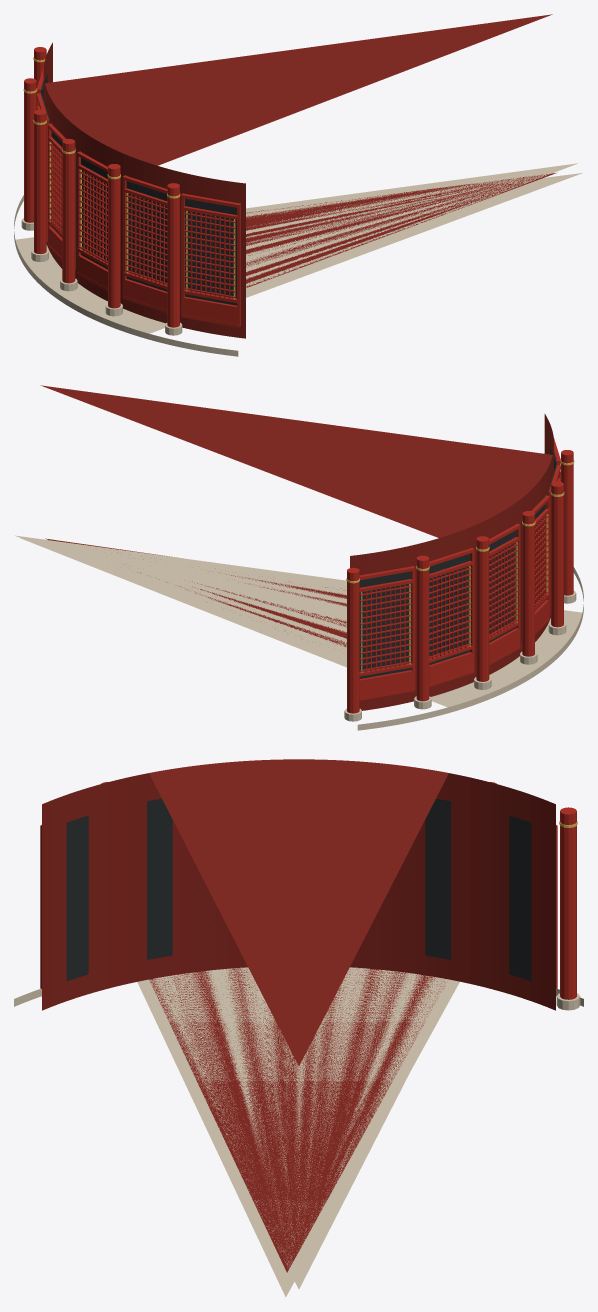
The model's file is SM_23_Wall_3.fbx.
The picture shows the model from 3 angles, top to bottom: view 1: azimuth 30°, elevation 25°; view 2: azimuth 150°, elevation 25°; view 3: azimuth 270°, elevation 25°; orthographic projection. The views are drawn at different scales.
Visible parts, largest first — view 1: Wall_3; view 2: Wall_3; view 3: Wall_3.
Boxes of the visible parts, x1,y1,x2,y2 form: Wall_3: (14, 14, 582, 356); Wall_3: (15, 385, 583, 730); Wall_3: (14, 759, 583, 1297).
Size of the model in its own units: 2760 by 1952 by 810.
